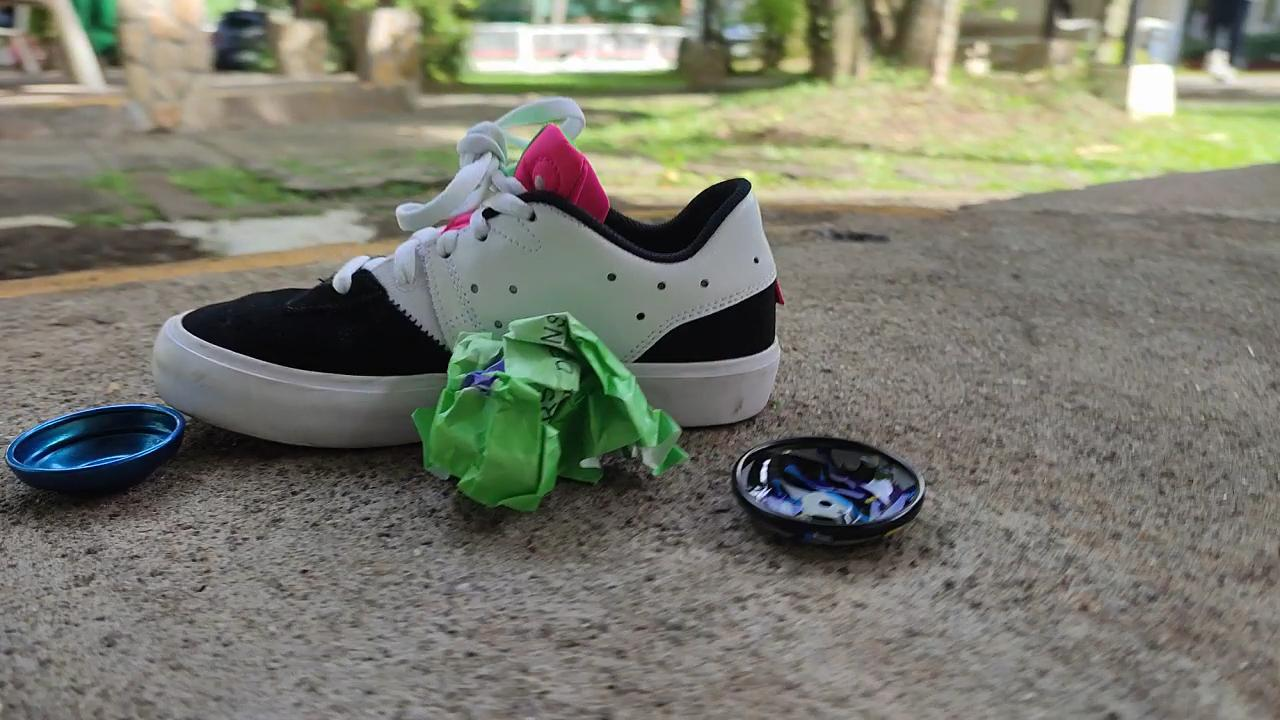Paper: (399, 291, 703, 531)
